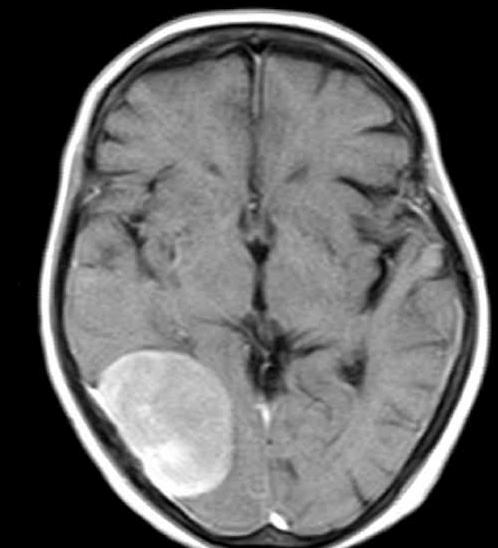Tumour-Meningioma: (75, 335, 254, 514)
